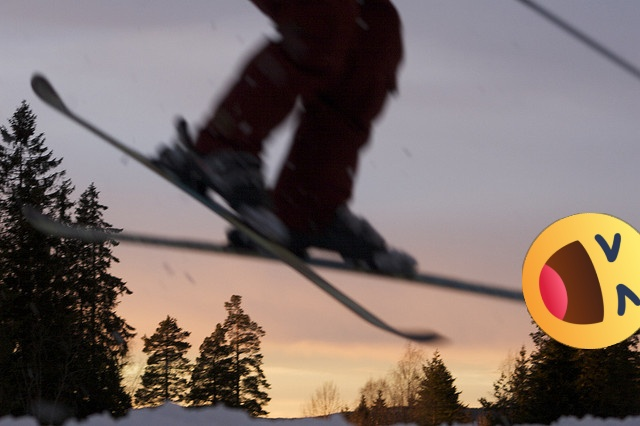haha: (522, 213, 640, 349)
